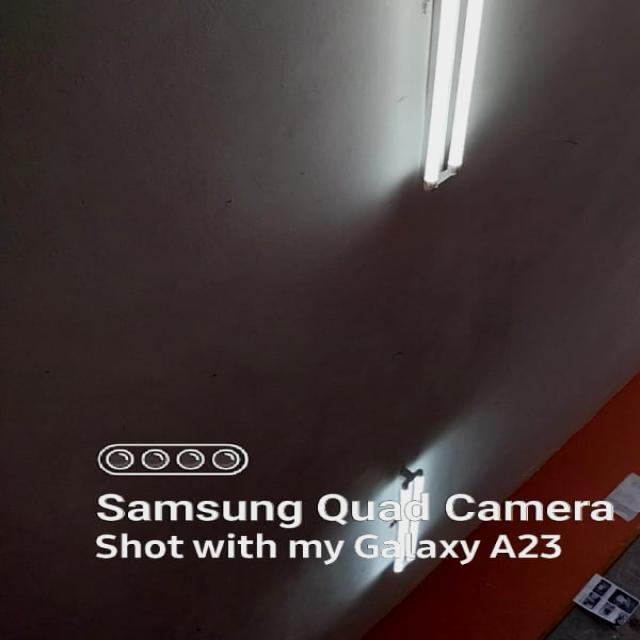fluorescent tube: (391, 0, 554, 228)
